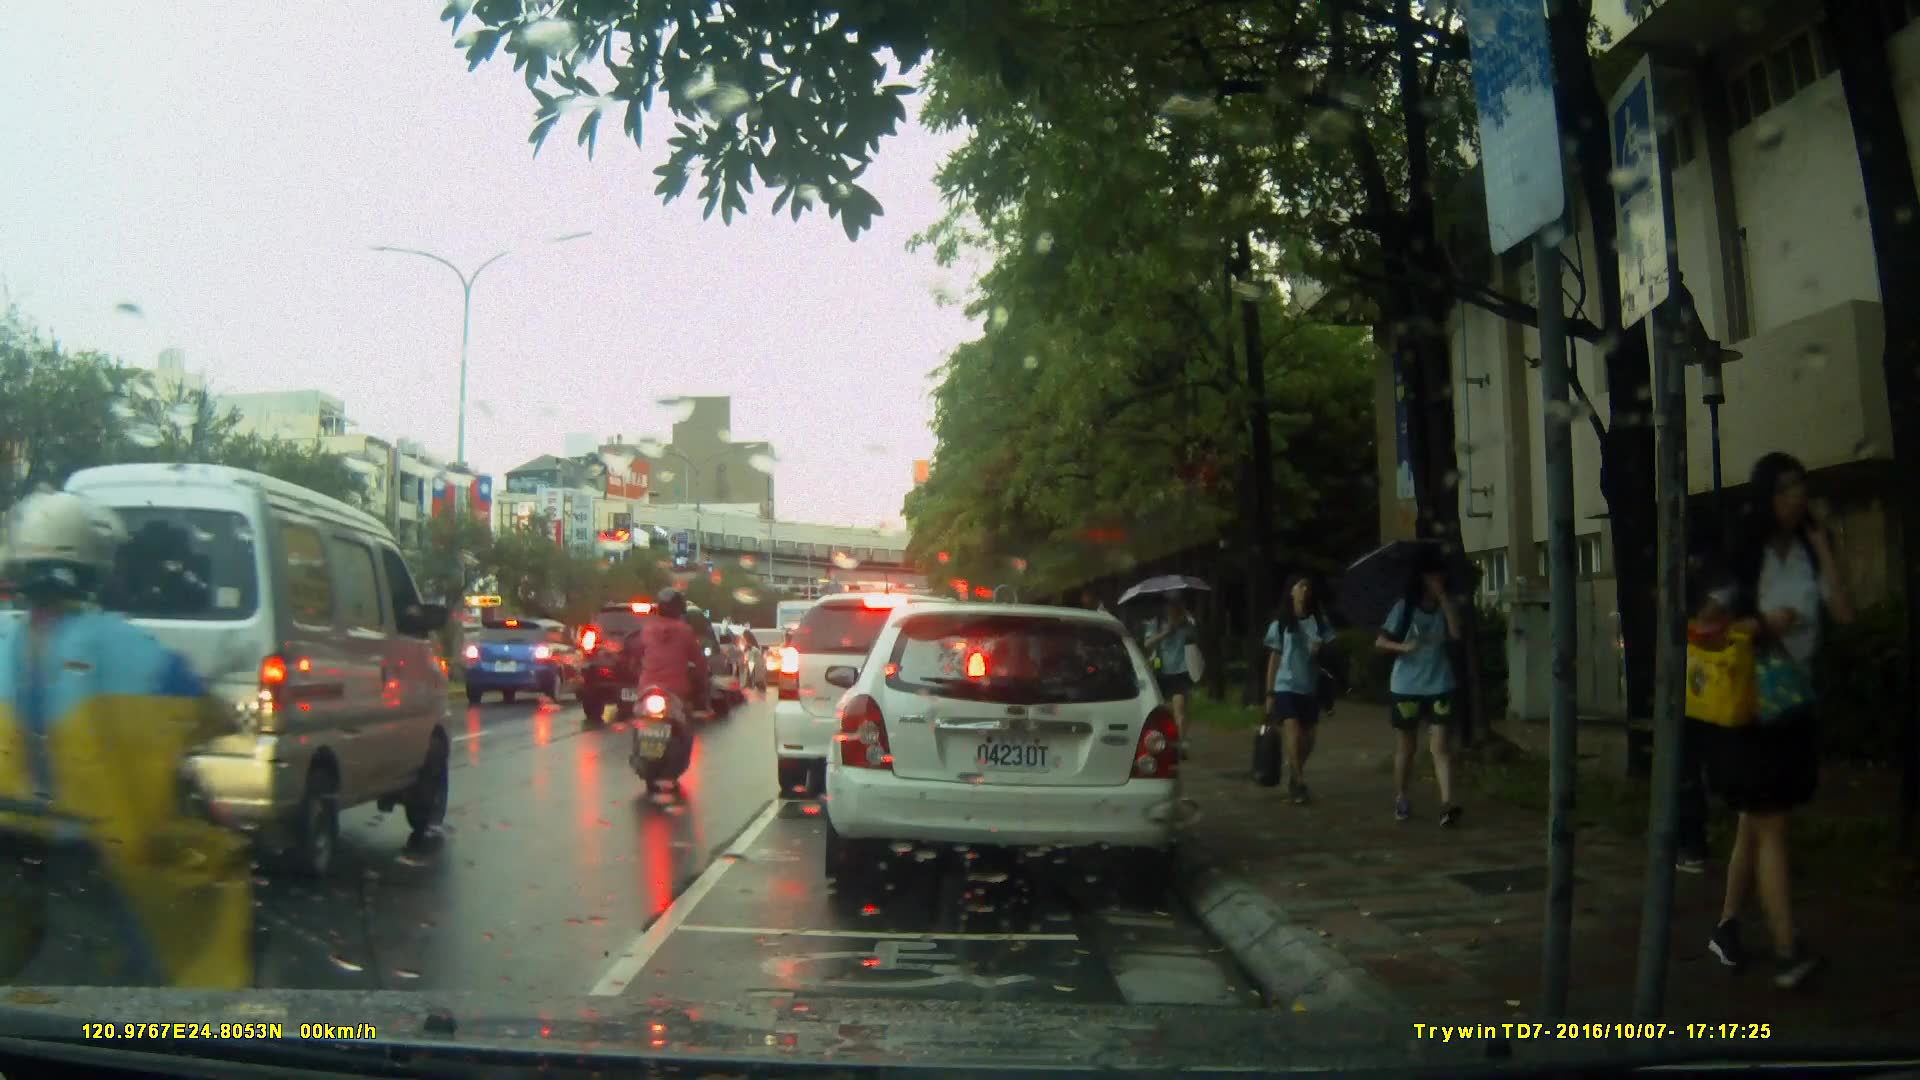pedestrian: (1690, 439, 1851, 991), (1667, 506, 1778, 894), (1360, 545, 1476, 832), (1249, 567, 1336, 806), (1148, 585, 1210, 755)
rider: (1, 506, 292, 1065), (631, 586, 710, 786)
vehicle: (24, 463, 457, 889), (815, 593, 1204, 909), (771, 590, 994, 802), (574, 602, 737, 726), (467, 617, 594, 709)
